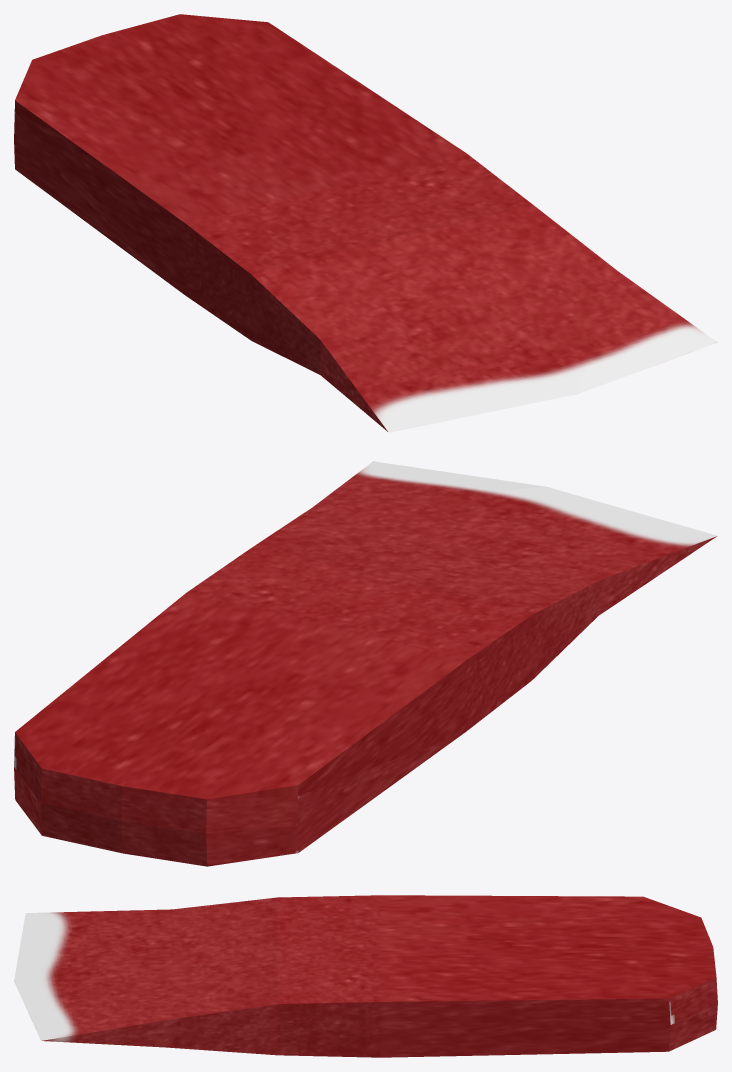
The model's file is splittingwedge.fbx.
The picture shows the model from 3 angles, top to bottom: view 1: azimuth 30°, elevation 25°; view 2: azimuth 150°, elevation 25°; view 3: azimuth 270°, elevation 25°; orthographic projection. The views are drawn at different scales.
Parts seen in each view (by area): view 1: AxeHead_forged; view 2: AxeHead_forged; view 3: AxeHead_forged.
Boxes of the visible parts, x1,y1,x2,y2 form: AxeHead_forged: [14, 14, 717, 432]; AxeHead_forged: [14, 461, 717, 866]; AxeHead_forged: [14, 895, 717, 1057].
Size of the model in its own units: 1.67 by 0.3395 by 3.89.
